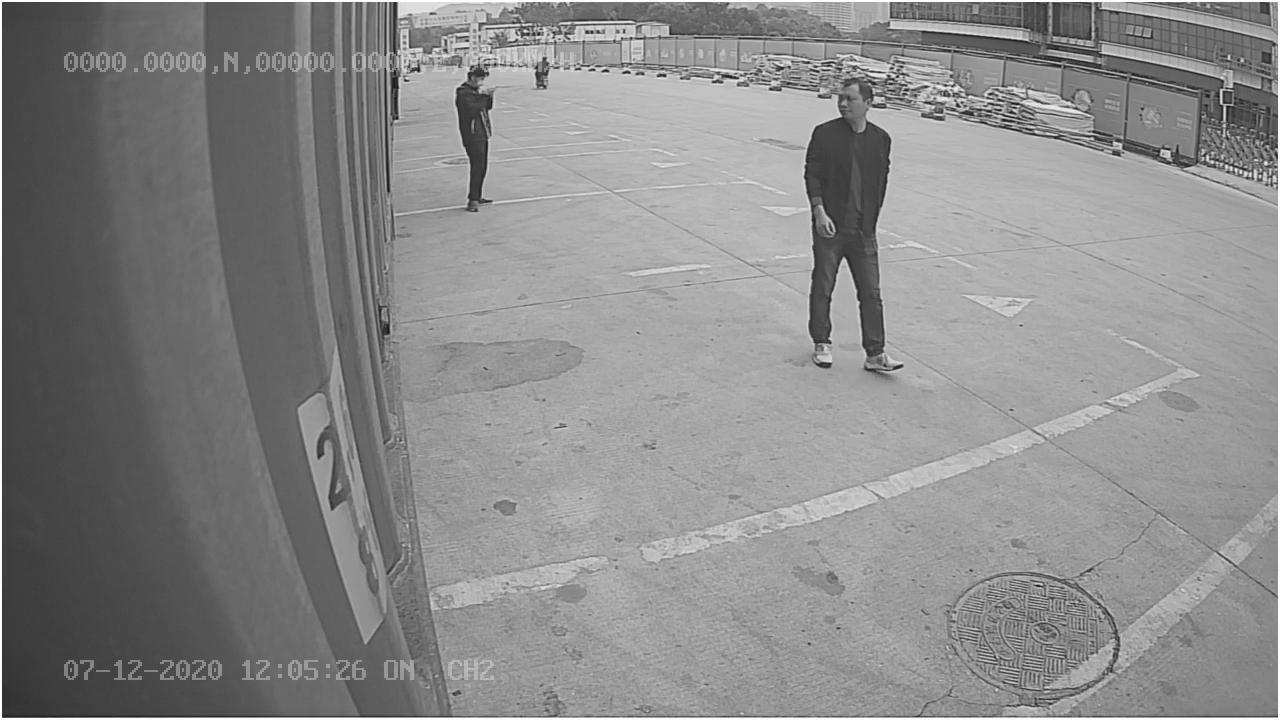person: (798, 67, 903, 384)
